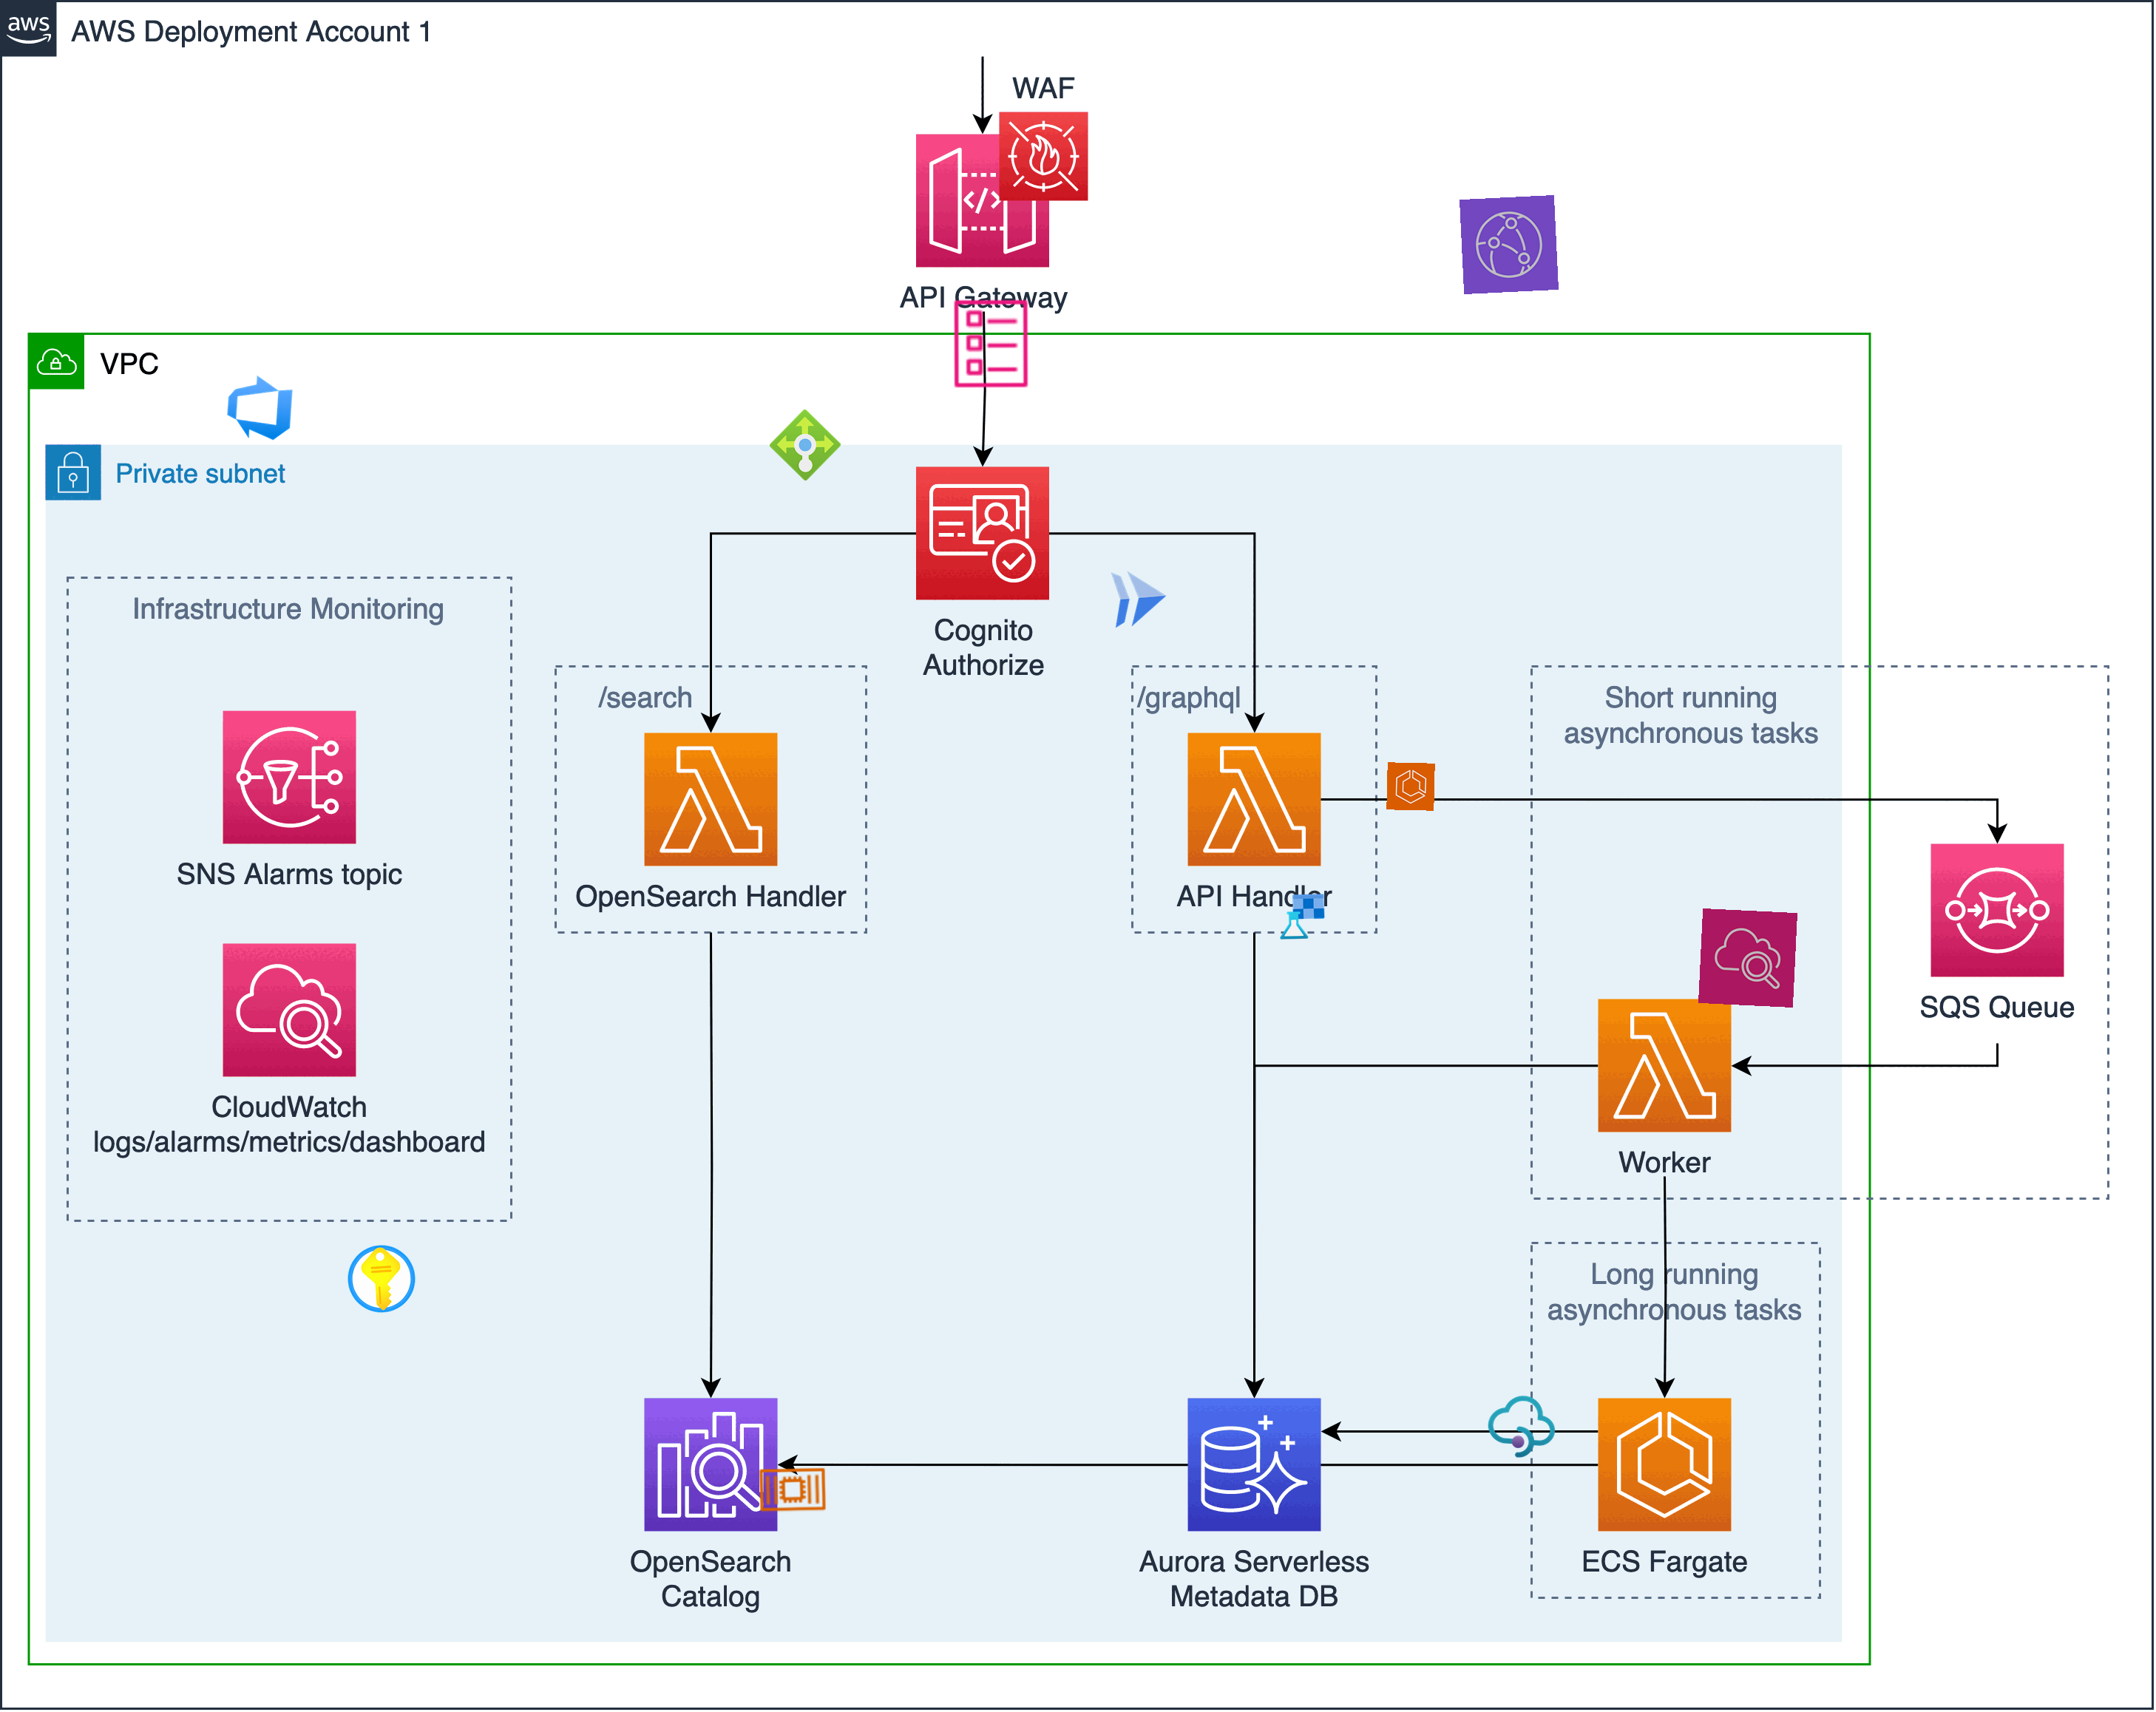aws_amazon_cloudfront: (1460, 194, 1559, 296)
aws_amazon_cloudwatch: (1698, 908, 1799, 1009)
aws_amazon_elastic_container_service: (1386, 762, 1435, 811)
aws_cloudformation_template: (942, 296, 1038, 392)
aws_elastic_container_service_container_2: (756, 1453, 829, 1525)
azure_api_management_services: (1484, 1388, 1559, 1465)
azure_devops: (221, 369, 298, 446)
azure_key_vaults: (343, 1240, 420, 1317)
azure_load_balancers: (768, 409, 842, 481)
azure_machine_learning_studio_workspaces: (1277, 892, 1326, 941)
gcp_cloud_run: (1101, 560, 1178, 637)
